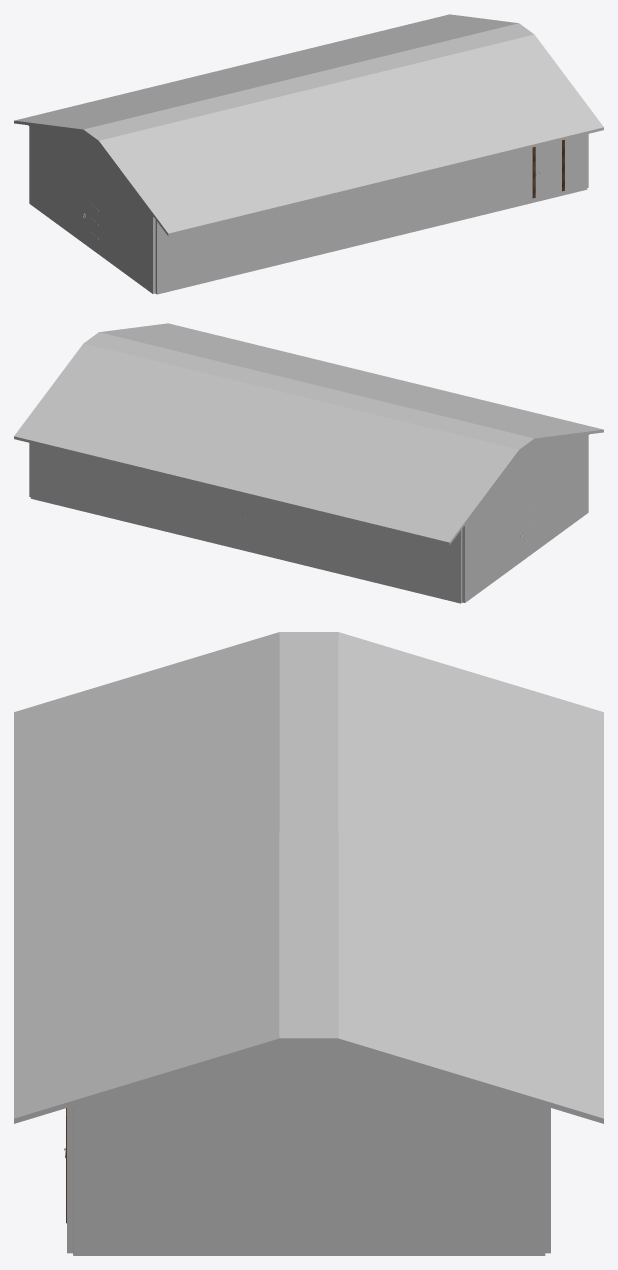
The model's file is Room for game 2.fbx.
3 views of the same model, one above another, from view 1: azimuth 30°, elevation 25°; view 2: azimuth 150°, elevation 25°; view 3: azimuth 270°, elevation 25° (orthographic). The views are drawn at different scales.
Visible parts, largest first — view 1: Roof, Outside Walls, Door.001, Door; view 2: Roof, Outside Walls, Door; view 3: Roof, Outside Walls.
Part boxes in pixels (x1,y1,x2,y2): Roof: [14, 14, 603, 236]; Outside Walls: [29, 126, 588, 294]; Door.001: [535, 140, 561, 197]; Door: [83, 185, 98, 249]; Roof: [14, 323, 603, 545]; Outside Walls: [29, 435, 588, 603]; Door: [519, 494, 534, 558]; Roof: [14, 632, 603, 1123]; Outside Walls: [67, 1108, 550, 1255].
Size of the model in its own units: 32701 by 8136 by 20000.
